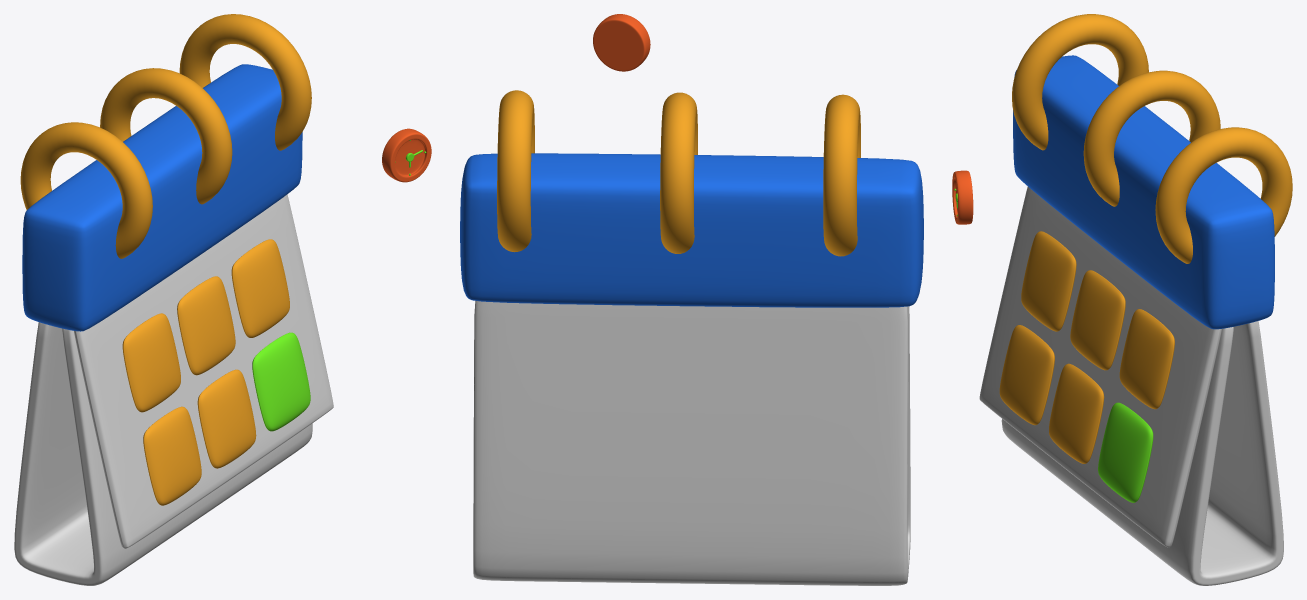
File: timeline-3d-animated-icon-600319947029.glb
The picture shows the model from 3 angles, left to right: view 1: azimuth 30°, elevation 25°; view 2: azimuth 150°, elevation 25°; view 3: azimuth 270°, elevation 25°; orthographic projection. The views are drawn at different scales.
Visible parts, largest first — view 1: calendar body, pages, dates, ring, date memo, clock; view 2: calendar body, ring, clock; view 3: calendar body, pages, ring, dates, date memo, clock.
Boxes of the visible parts, bbox=[...] form: calendar body: bbox=[14, 64, 312, 585]; pages: bbox=[74, 194, 333, 548]; dates: bbox=[122, 239, 289, 505]; ring: bbox=[20, 14, 311, 258]; date memo: bbox=[252, 332, 310, 431]; clock: bbox=[382, 128, 431, 182]; calendar body: bbox=[460, 153, 923, 585]; ring: bbox=[497, 90, 860, 256]; clock: bbox=[593, 14, 650, 71]; calendar body: bbox=[1001, 55, 1283, 585]; pages: bbox=[979, 186, 1221, 547]; ring: bbox=[1012, 14, 1292, 263]; dates: bbox=[999, 231, 1174, 463]; date memo: bbox=[1098, 402, 1153, 502]; clock: bbox=[952, 170, 973, 224].
Bounding box in the file's own units: 2.5 × 2.92 × 2.05.
